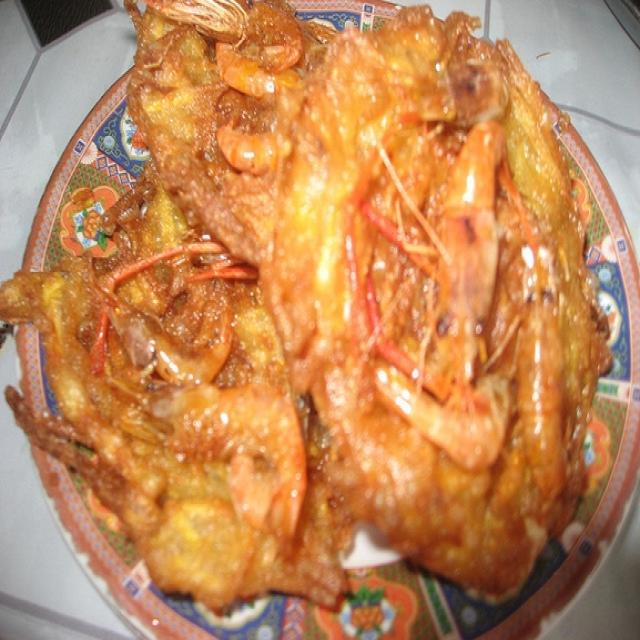炸货点心: (20, 15, 626, 634)
熟制海鲜: (20, 15, 626, 634)
